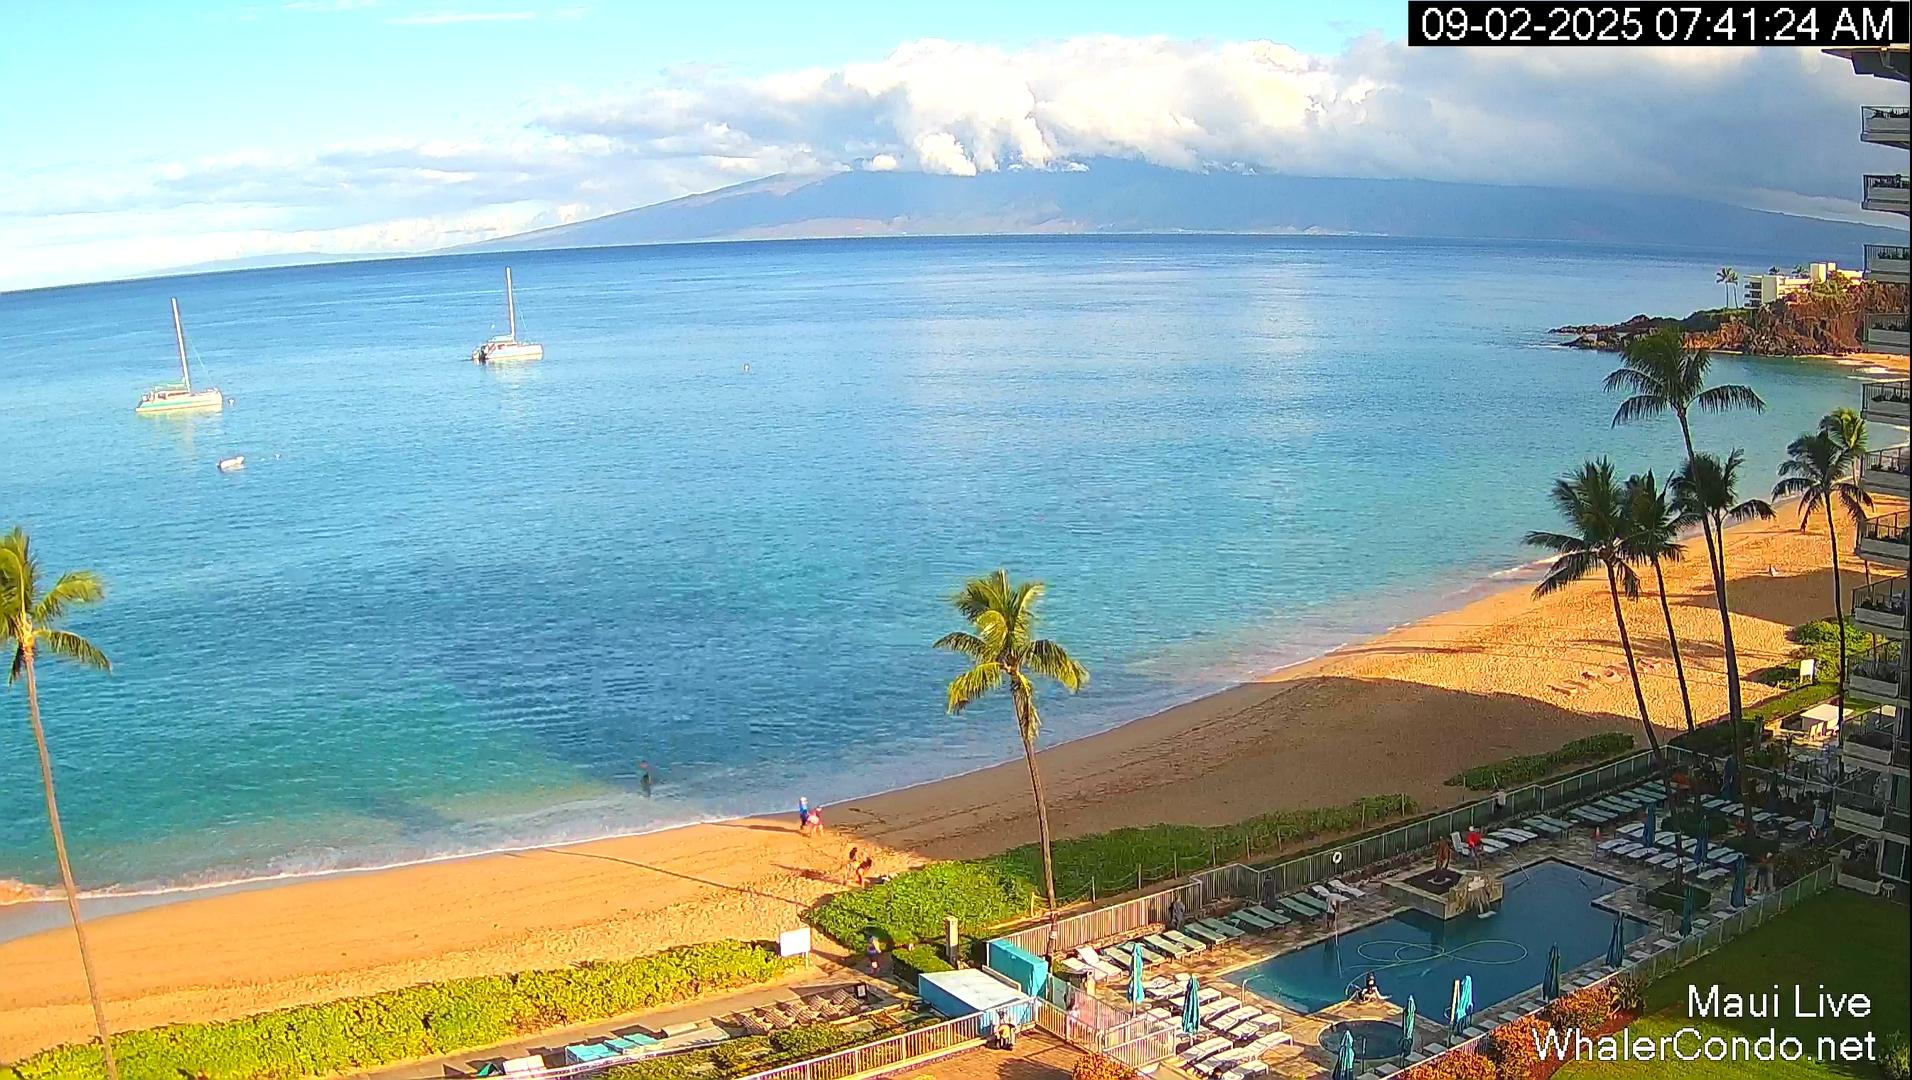boat: (134, 296, 224, 414), (472, 267, 544, 364), (219, 454, 247, 473)
person: (1467, 823, 1482, 864), (806, 806, 824, 838), (856, 856, 873, 884), (869, 936, 881, 975), (846, 846, 859, 879), (1490, 786, 1506, 812), (798, 796, 809, 831), (1756, 563, 1777, 577), (637, 760, 652, 774)
